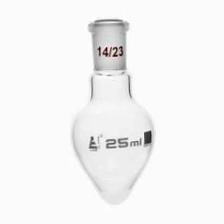Pear shaped flask: (69, 19, 159, 203)
